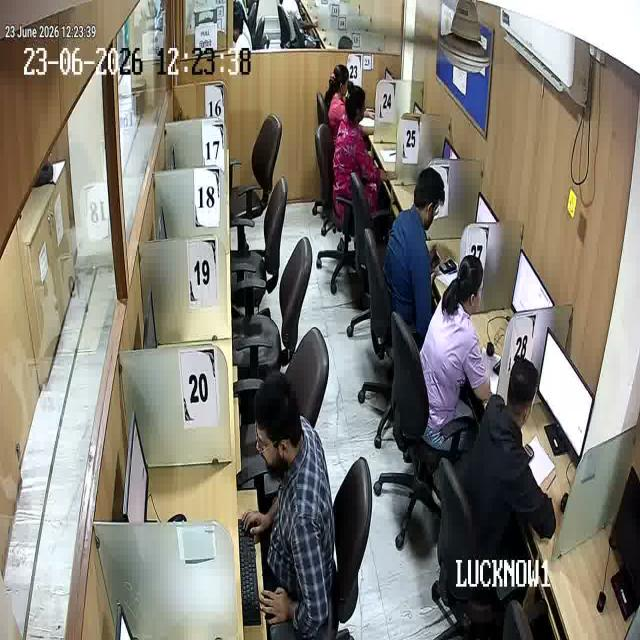phone: (429, 243, 443, 274)
